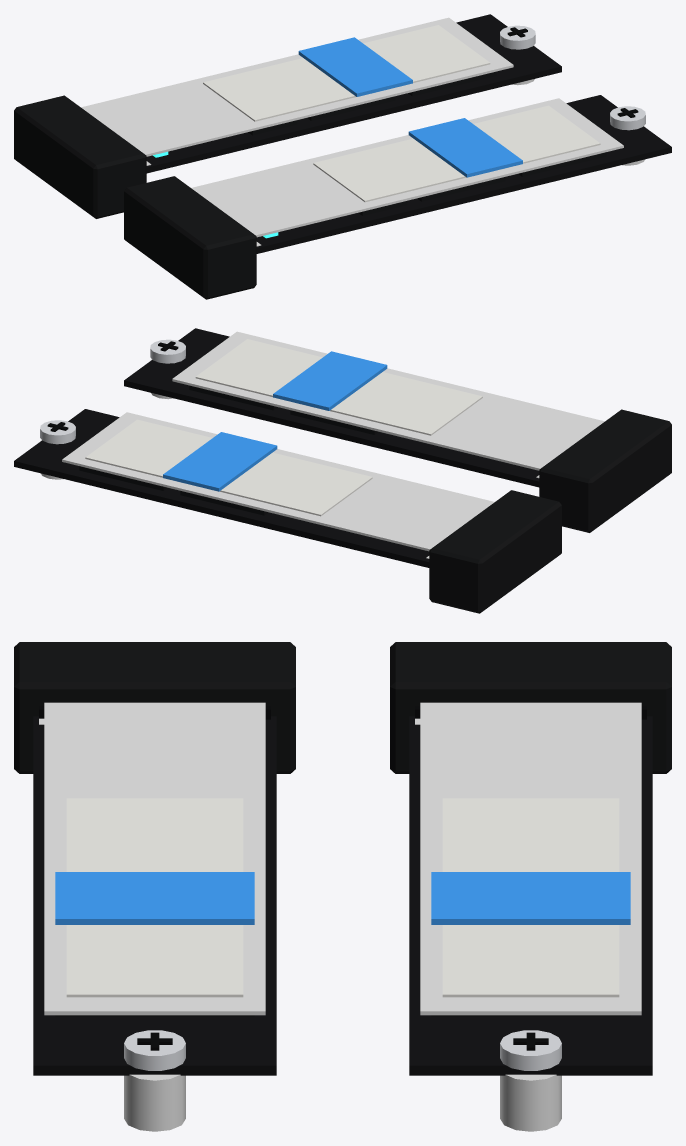
The model's file is hwm_sto_ssd_1tb.glb.
The picture shows the model from 3 angles, top to bottom: view 1: azimuth 30°, elevation 25°; view 2: azimuth 150°, elevation 25°; view 3: azimuth 270°, elevation 25°; orthographic projection. The views are drawn at different scales.
Parts seen in each view (by area): view 1: SSD_0, SSD_1, Slots, Screw_0, Screw_1; view 2: SSD_1, SSD_0, Slots, Screw_1, Screw_0; view 3: SSD_0, SSD_1, Slots, Screw_0, Screw_1.
Boxes of the visible parts, x1,y1,x2,y2 form: SSD_0: (81, 14, 561, 173); SSD_1: (191, 95, 671, 253); Slots: (14, 45, 645, 299); Screw_0: (500, 25, 535, 49); Screw_1: (610, 106, 645, 130); SSD_1: (124, 328, 604, 487); SSD_0: (14, 409, 494, 567); Slots: (40, 359, 671, 613); Screw_1: (150, 339, 185, 363); Screw_0: (40, 420, 75, 444); SSD_0: (409, 702, 652, 1075); SSD_1: (33, 702, 276, 1075); Slots: (14, 642, 671, 1131); Screw_0: (500, 1030, 561, 1070); Screw_1: (124, 1030, 185, 1070).
Size of the model in its own units: 0.0855 by 0.0092 by 0.0595.
